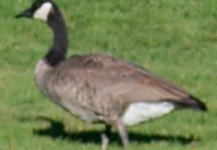goose: (9, 1, 210, 148)
